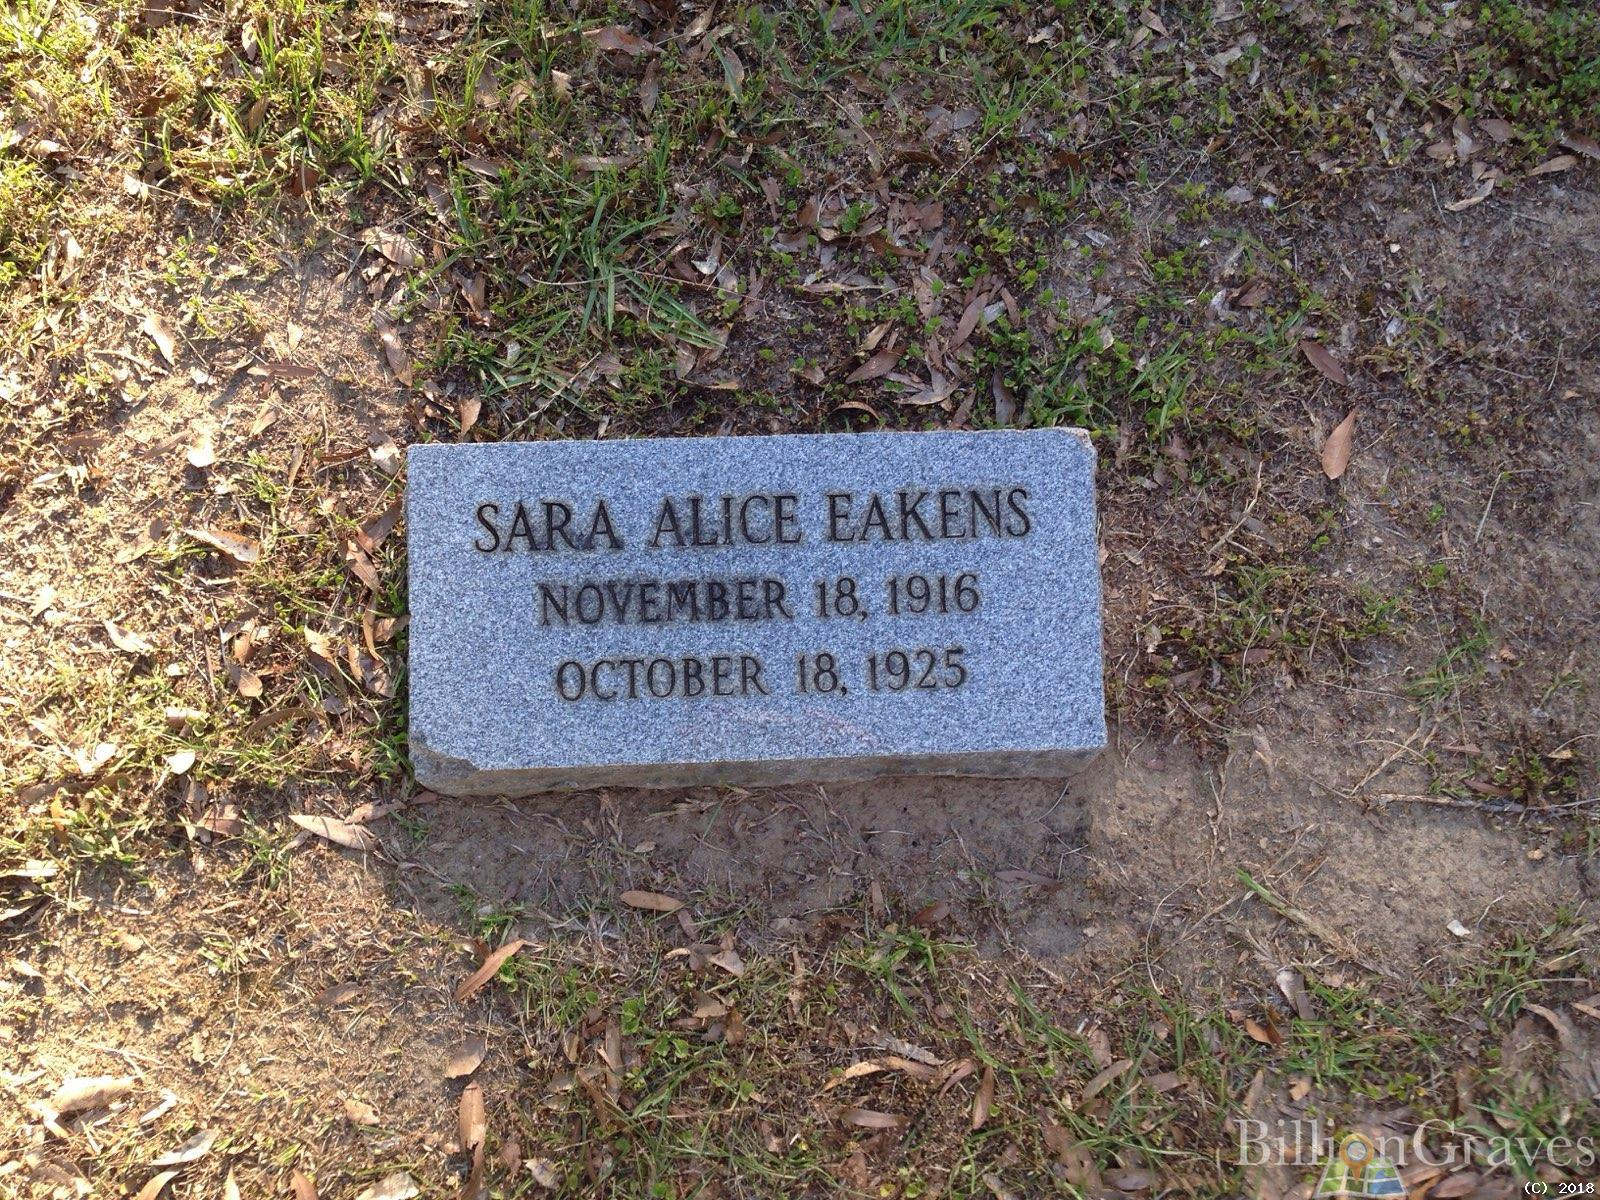flat: (397, 434, 1102, 787)
